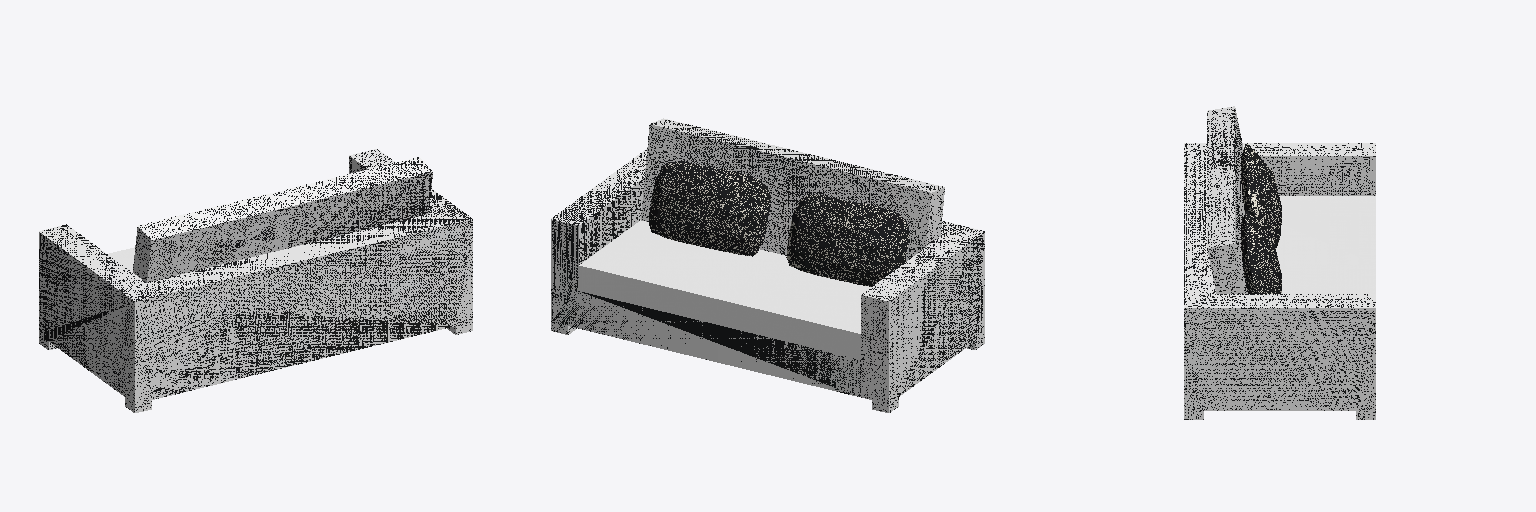
The picture shows the model from 3 angles: view 1: azimuth 30°, elevation 25°; view 2: azimuth 150°, elevation 25°; view 3: azimuth 270°, elevation 25°; orthographic projection.
Parts seen in each view (by area): view 1: mesh3_mesh3-geometry, mesh9_mesh9-geometry, mesh8_mesh8-geometry; view 2: mesh3_mesh3-geometry, mesh10_mesh10-geometry, mesh2_mesh2-geometry, mesh1_mesh1-geometry, mesh8_mesh8-geometry, mesh9_mesh9-geometry; view 3: mesh3_mesh3-geometry, mesh1_mesh1-geometry, mesh10_mesh10-geometry, mesh8_mesh8-geometry, mesh2_mesh2-geometry, mesh9_mesh9-geometry.
Boxes of the visible parts, x1=… form: mesh3_mesh3-geometry: x1=39, y1=149, x2=472, y2=412; mesh9_mesh9-geometry: x1=133, y1=192, x2=291, y2=282; mesh8_mesh8-geometry: x1=278, y1=157, x2=432, y2=247; mesh3_mesh3-geometry: x1=551, y1=149, x2=984, y2=412; mesh10_mesh10-geometry: x1=649, y1=161, x2=908, y2=286; mesh2_mesh2-geometry: x1=579, y1=220, x2=780, y2=324; mesh1_mesh1-geometry: x1=720, y1=255, x2=870, y2=359; mesh8_mesh8-geometry: x1=641, y1=118, x2=802, y2=254; mesh9_mesh9-geometry: x1=782, y1=153, x2=944, y2=261; mesh3_mesh3-geometry: x1=1184, y1=143, x2=1375, y2=419; mesh1_mesh1-geometry: x1=1276, y1=196, x2=1375, y2=264; mesh10_mesh10-geometry: x1=1241, y1=143, x2=1281, y2=293; mesh8_mesh8-geometry: x1=1207, y1=175, x2=1247, y2=293; mesh2_mesh2-geometry: x1=1280, y1=265, x2=1375, y2=293; mesh9_mesh9-geometry: x1=1207, y1=106, x2=1244, y2=216.
Size of the model in its own units: 0.8299 by 0.38 by 0.4085.
5 materials, 2 textured.